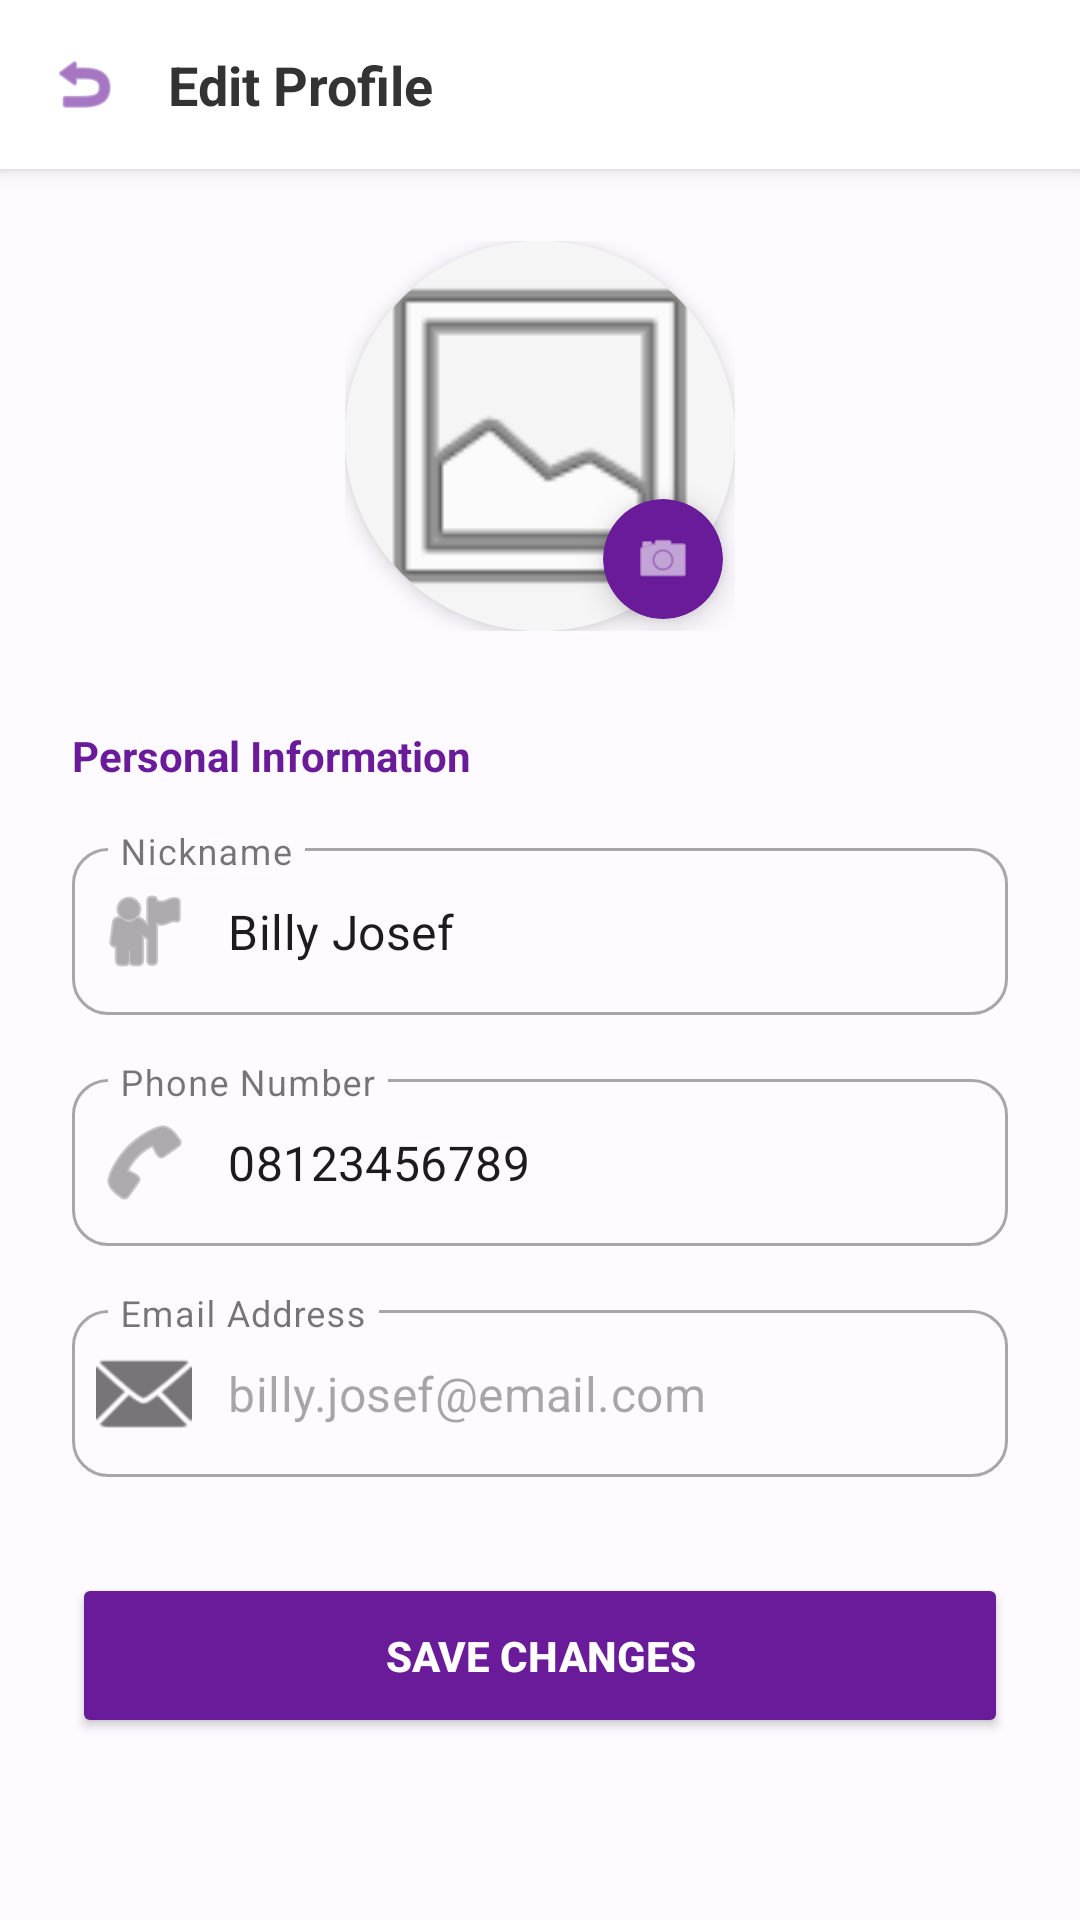

Locate icon controls on the screen. Image size 1080x1920, boxes as (x1, y1, x2, y2).
revert: (59, 61, 111, 108)
